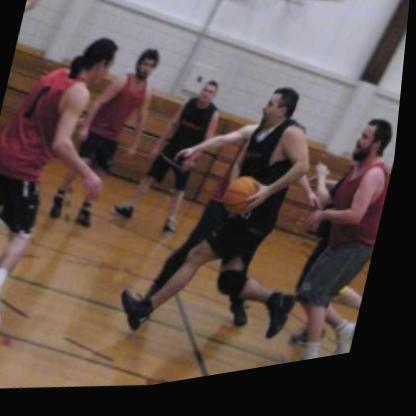basketball: (217, 173, 272, 233)
